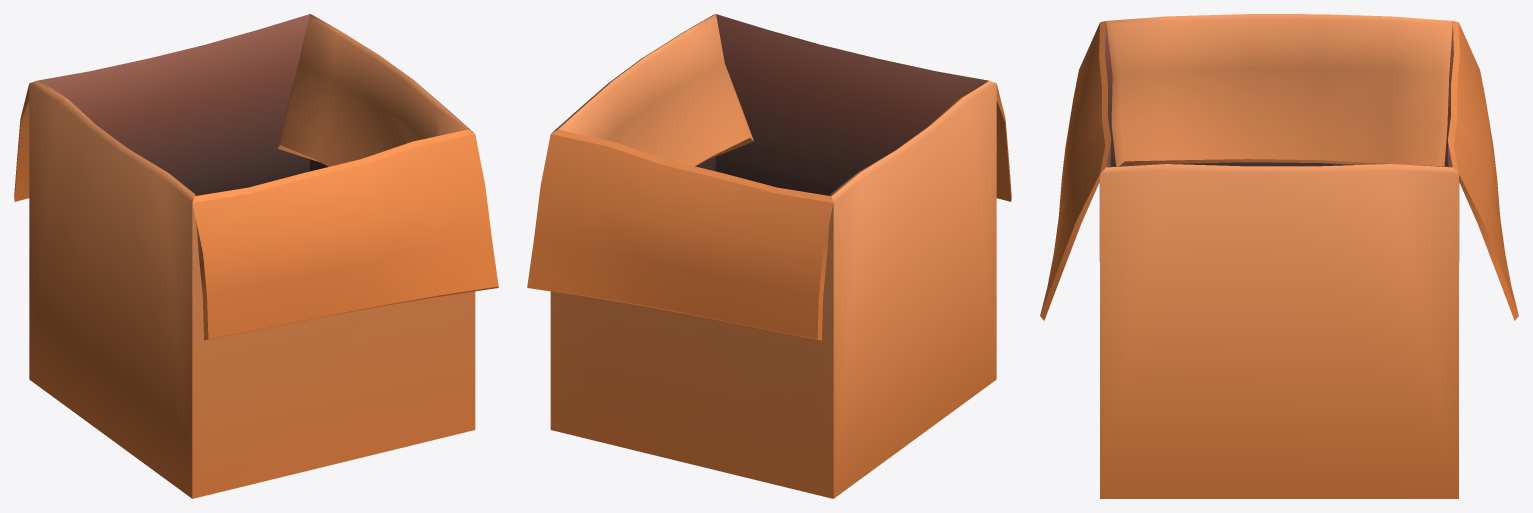
The model's file is Trash_pile_006.glb.
3 renders of one model, left to right at view 1: azimuth 30°, elevation 25°; view 2: azimuth 150°, elevation 25°; view 3: azimuth 270°, elevation 25°, orthographic. The views are drawn at different scales.
Visible parts, largest first — view 1: Trash_pile_006; view 2: Trash_pile_006; view 3: Trash_pile_006.
Boxes of the visible parts, <box> form: Trash_pile_006: <box>14,14,498,498</box>; Trash_pile_006: <box>527,14,1011,498</box>; Trash_pile_006: <box>1040,14,1518,498</box>.
Bounding box in the file's own units: 0.4156 × 0.4097 × 0.534.
Materials: 1 (1 with a texture image).
